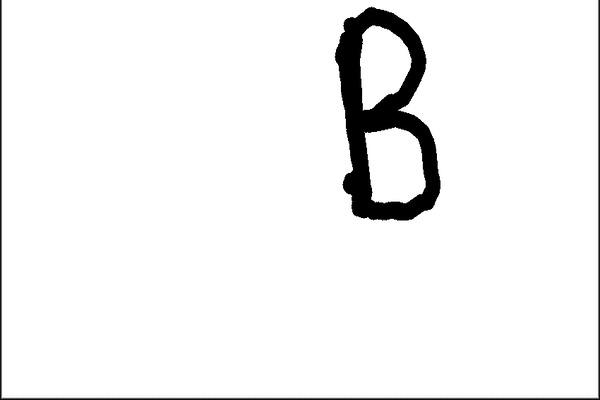B: (320, 2, 448, 229)
